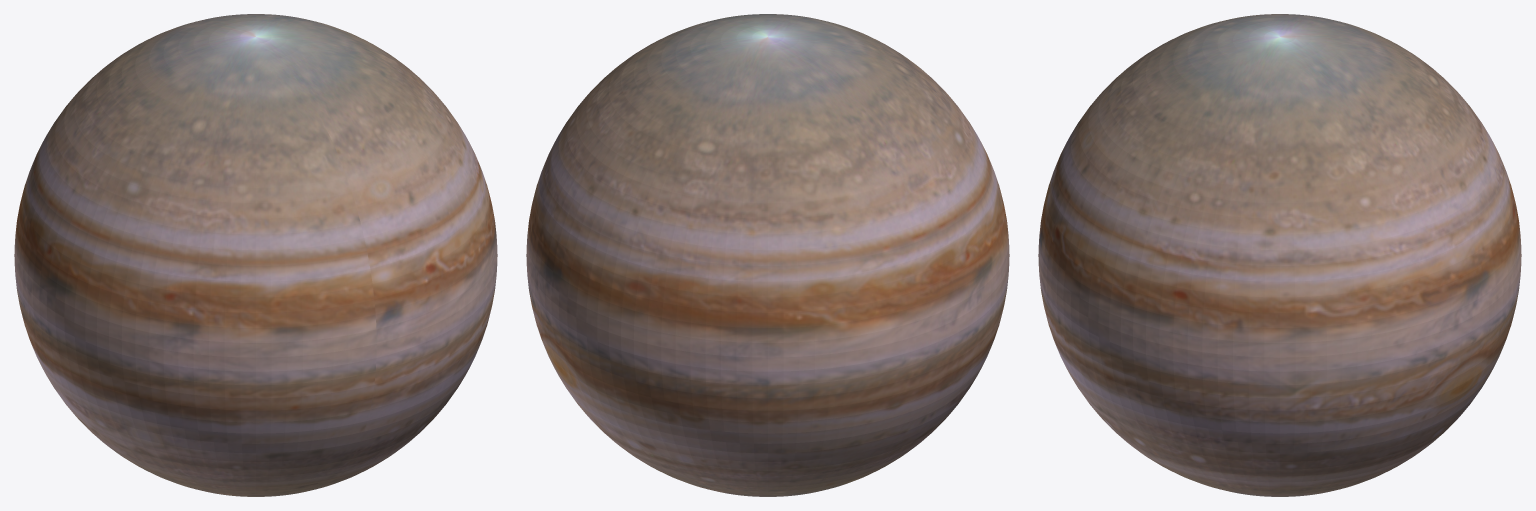
Rendered from jupiter.obj.
3 renders of one model, left to right at view 1: azimuth 30°, elevation 25°; view 2: azimuth 150°, elevation 25°; view 3: azimuth 270°, elevation 25°, orthographic.
Parts seen in each view (by area): view 1: Sphere; view 2: Sphere; view 3: Sphere.
Boxes of the visible parts, x1,y1,x2,y2 form: Sphere: (14,14,497,496); Sphere: (526,14,1009,496); Sphere: (1038,14,1521,496).
Size of the model in its own units: 2 by 2 by 2.
Materials: 1 (1 with a texture image).
